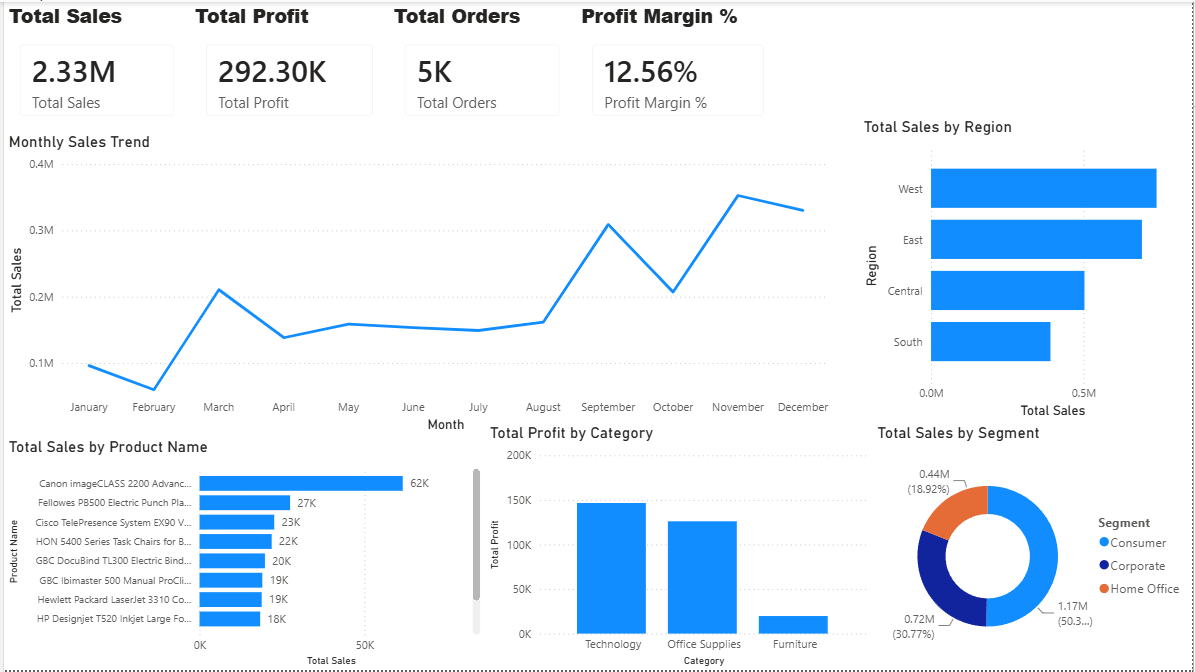

This screenshot's page, from the dashboard's own definition file:
{"tool":"powerbi","page":{"name":"Page 1","canvas":[1280,720],"ordinal":0},"visuals":[{"type":"cardVisual","title":"Total Sales","fields":{"Data":["Orders.Total Sales"]},"box":[0,0,200.6,140],"z":0},{"type":"cardVisual","title":"Total Profit","fields":{"Data":["Orders.Total Profit"]},"box":[200.6,0,214.1,140],"z":1000},{"type":"cardVisual","title":"Total Orders","fields":{"Data":["Orders.Total Orders"]},"box":[414.6,0,201.9,140],"z":2000},{"type":"cardVisual","title":"Profit Margin %","fields":{"Data":["Orders.Profit Margin %"]},"box":[616.6,0,219.4,140],"z":3000},{"type":"lineChart","title":"Monthly Sales Trend","fields":{"Category":["Orders.Order Date.Variation.Date Hierarchy.Year","Orders.Order Date.Variation.Date Hierarchy.Quarter","Orders.Order Date.Variation.Date Hierarchy.Month","Orders.Order Date.Variation.Date Hierarchy.Day"],"Y":["Orders.Total Sales"]},"box":[0,140,896.6,328.5],"z":4000},{"type":"clusteredBarChart","fields":{"Category":["Orders.Region"],"Y":["Orders.Total Sales"]},"box":[920.8,123.9,359.4,329.8],"z":5000},{"type":"clusteredColumnChart","fields":{"Y":["Orders.Total Profit"],"Category":["Orders.Category"]},"box":[518.3,453.7,417.3,266.6],"z":6000},{"type":"clusteredBarChart","fields":{"Y":["Orders.Total Sales"],"Category":["Orders.Product Name"]},"box":[0,468,518,252],"z":7000},{"type":"donutChart","fields":{"Category":["Orders.Segment"],"Y":["Orders.Total Sales"]},"box":[935,454,345,266],"z":8000}]}

Visuals, with their boxes in screenshot pixels (x1, y1, x2, y2), scaled from the page's 1280x720 canvas onto the 1195x672 screenshot:
"Total Sales" cardVisual: 0 0 187 131
"Total Profit" cardVisual: 187 0 387 131
"Total Orders" cardVisual: 387 0 576 131
"Profit Margin %" cardVisual: 576 0 780 131
"Monthly Sales Trend" lineChart: 0 131 837 437
clusteredBarChart - Orders.Region x Orders.Total Sales: 860 116 1194 423
clusteredColumnChart - Orders.Total Profit x Orders.Category: 484 423 873 671
clusteredBarChart - Orders.Total Sales x Orders.Product Name: 0 437 484 671
donutChart - Orders.Segment x Orders.Total Sales: 873 424 1194 671
